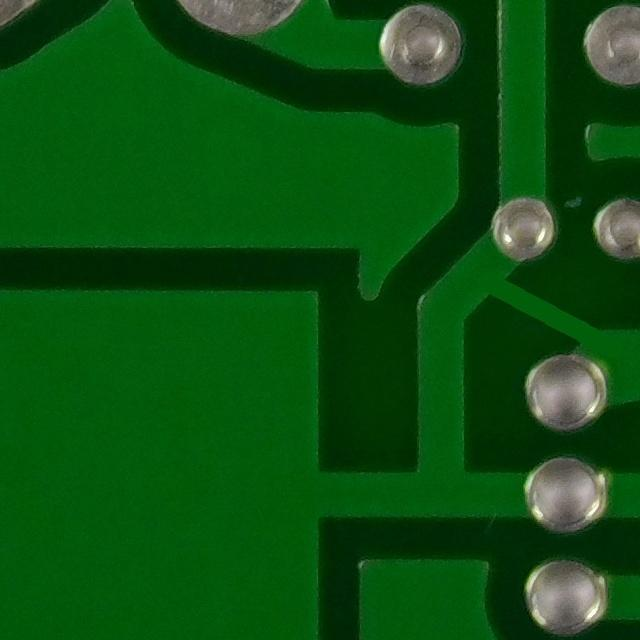short: (455, 236, 634, 400)
